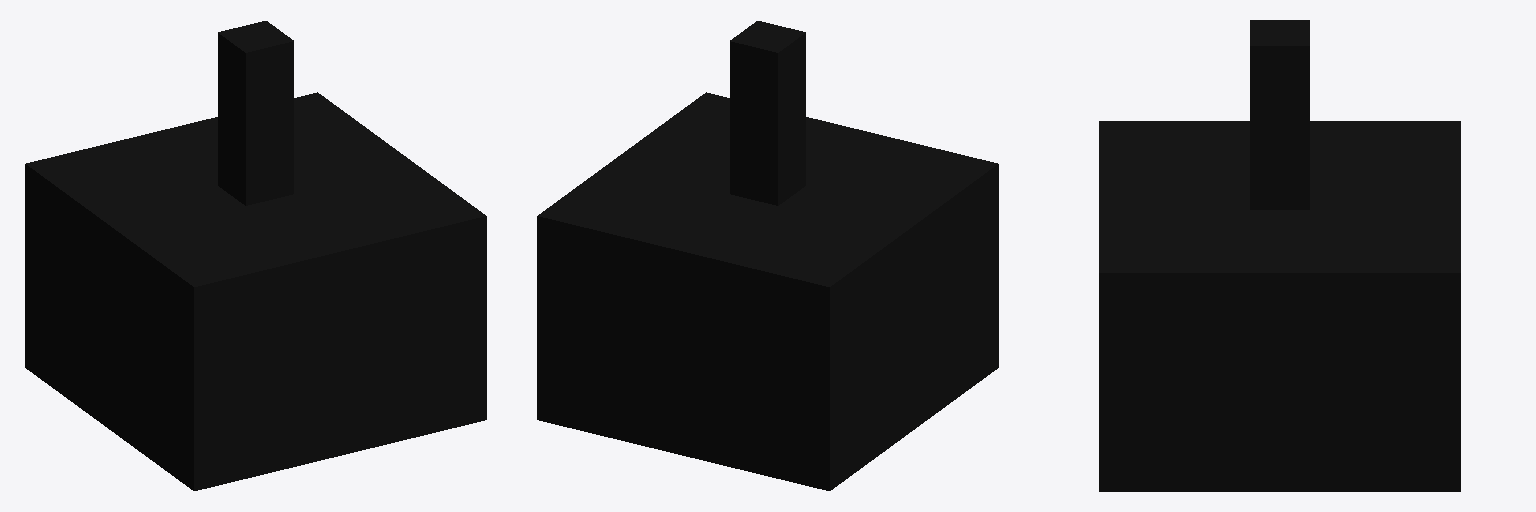
URDF robot description (fanuc_tool_two):
<?xml version="1.0" ?>
<robot name="fanuc_tool_two" xmlns:xacro="http://wiki.ros.org/xacro">
  <link name="inspection_tool_base">
    <visual>
      <origin rpy="0 0 0" xyz="0 0 0.02" />
      <geometry>
        <box size="0.06 0.06 0.04"/>
      </geometry>
      <material name="darkgrey">
        <color rgba="0.1 0.1 0.1 1"/>
      </material>
    </visual>
    <collision>
        <origin rpy="0 0 0" xyz="0 0 0.02" />
        <geometry>
            <box size="0.06 0.06 0.04"/>
        </geometry>
        <material name="darkgrey"/>
    </collision>
  </link>
  <link name="inspection_cylinder">
    <visual>
      <origin rpy="0 0 0" xyz="0 0 0.015" />
      <geometry>
        <box size="0.01 0.01 0.03"/>
      </geometry>
      <material name="darkgrey"/>
    </visual>
    <collision>
        <origin rpy="0 0 0" xyz="0 0 0.015" />
        <geometry>
            <box size="0.01 0.01 0.03"/>
        </geometry>
        <material name="darkgrey"/>
    </collision>
  </link>
  <joint name="base_joint" type="fixed">
    <parent link="inspection_tool_base" />
    <child link="inspection_cylinder" />
    <origin rpy="0 0 0" xyz="0 0 0.04" />
  </joint>
</robot>

--- Facts derived from the render (not from the file) ---
Views: 3 orthographic renders of the robot side by side, from view 1: azimuth 30°, elevation 25°; view 2: azimuth 150°, elevation 25°; view 3: azimuth 270°, elevation 25°.
Model fanuc_tool_two with 2 links and 1 joints (1 fixed), rooted at inspection_tool_base, posed all joints at 0.
Visible links, largest first — view 1: inspection_tool_base, inspection_cylinder; view 2: inspection_tool_base, inspection_cylinder; view 3: inspection_tool_base, inspection_cylinder.
Boxes of the visible links, left/top/right/bottom form: inspection_tool_base: left=25, top=92, right=486, bottom=490; inspection_cylinder: left=218, top=21, right=293, bottom=205; inspection_tool_base: left=537, top=92, right=998, bottom=490; inspection_cylinder: left=730, top=21, right=805, bottom=205; inspection_tool_base: left=1099, top=121, right=1460, bottom=491; inspection_cylinder: left=1250, top=20, right=1309, bottom=209.
Size in the robot's own frame: 0.06 by 0.06 by 0.07 metres.
Geometry: primitives only (box / cylinder / sphere), no mesh files.